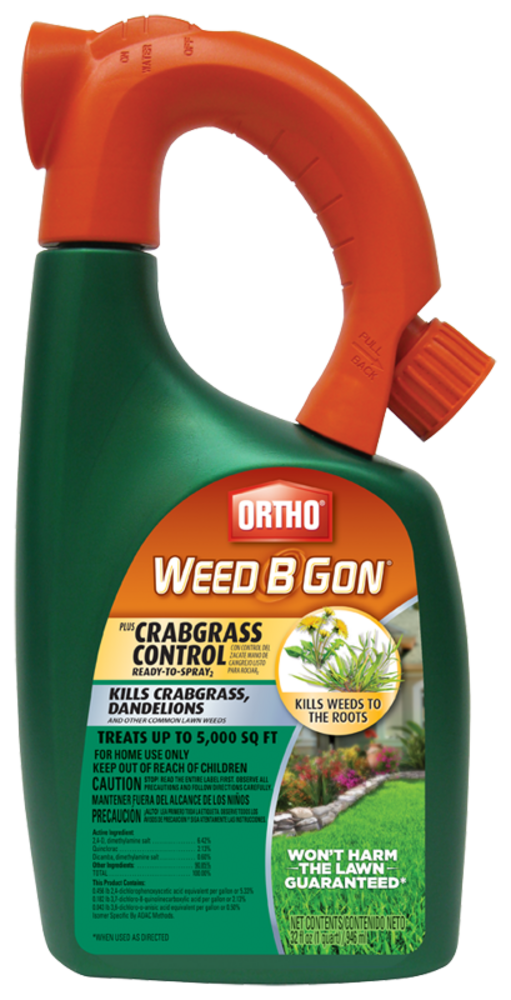crabgrass: (311, 645, 396, 694)
